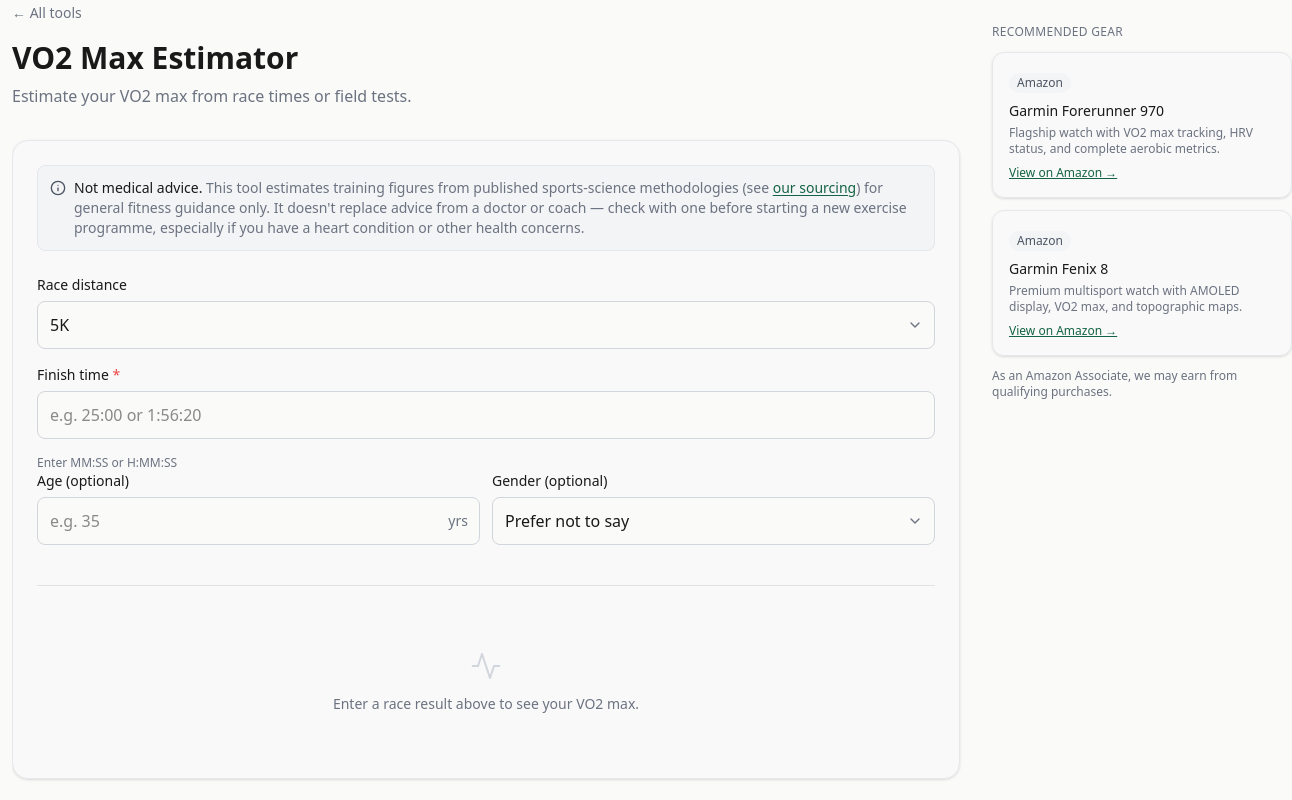
Test case: Vo2max page › shows personalised category when age and male gender entered (AC10)
The image size is (1292, 800).
In the field labelled "Finish time *": point(486, 415) [37, 391, 935, 439], type "25:00"
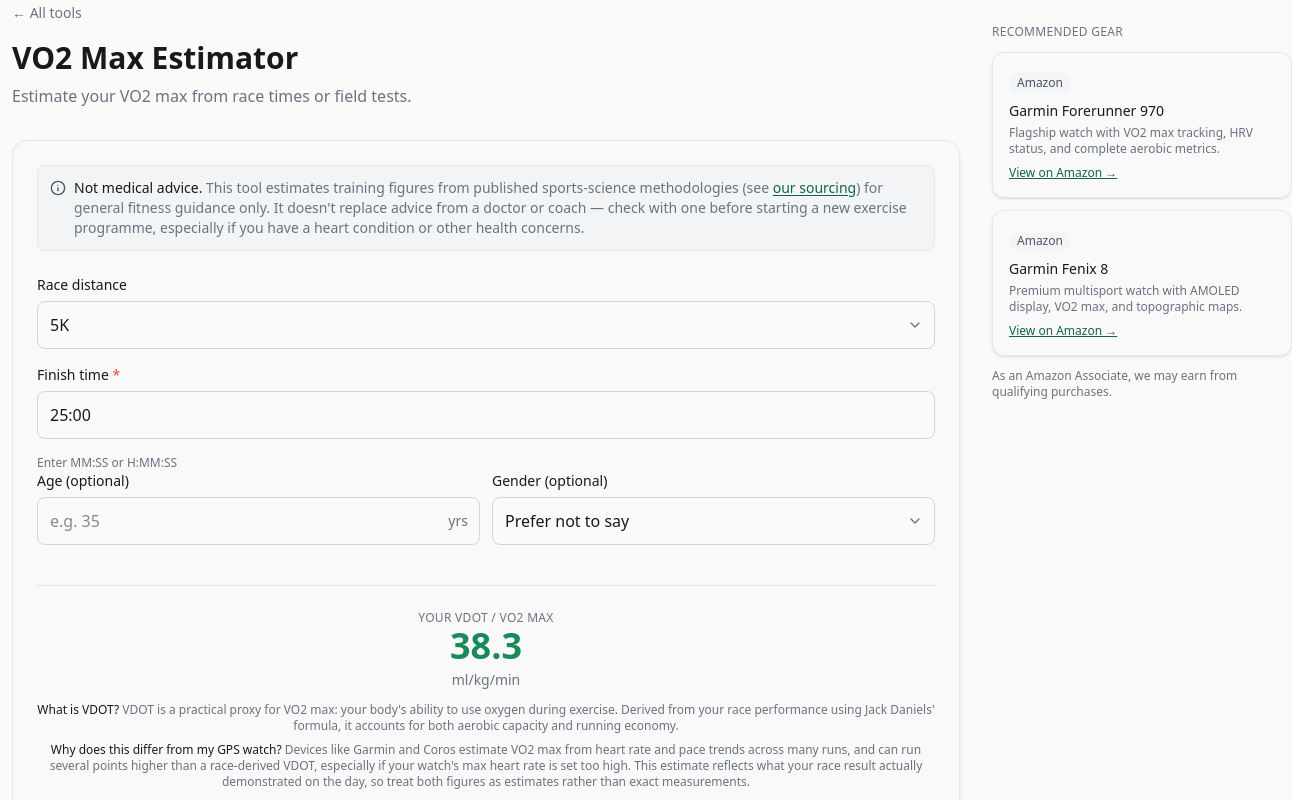
In the number field labelled "Age (optional)": point(258, 521) [37, 497, 480, 545], type "35"
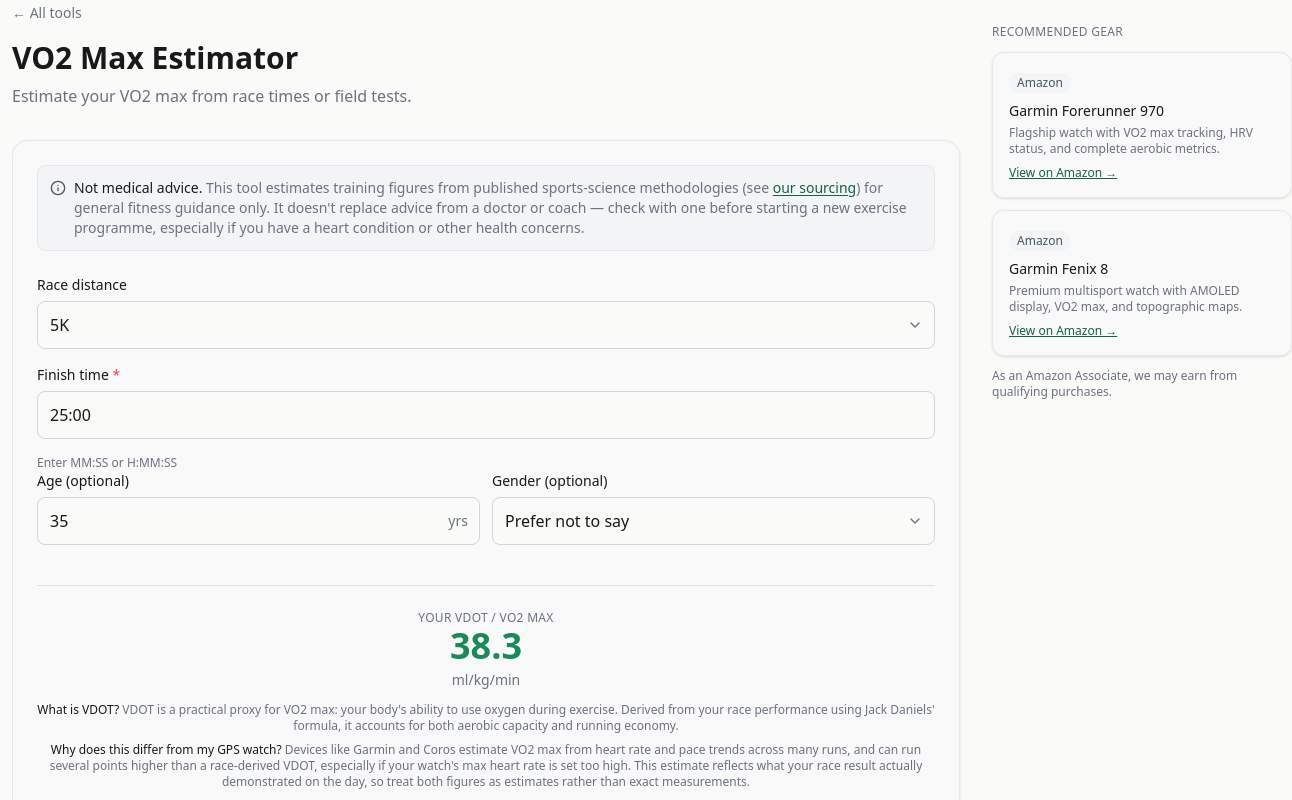
Select "Male" in the dropdown labelled "Gender (optional)": point(714, 521) [492, 497, 935, 545]
(page scrolled)
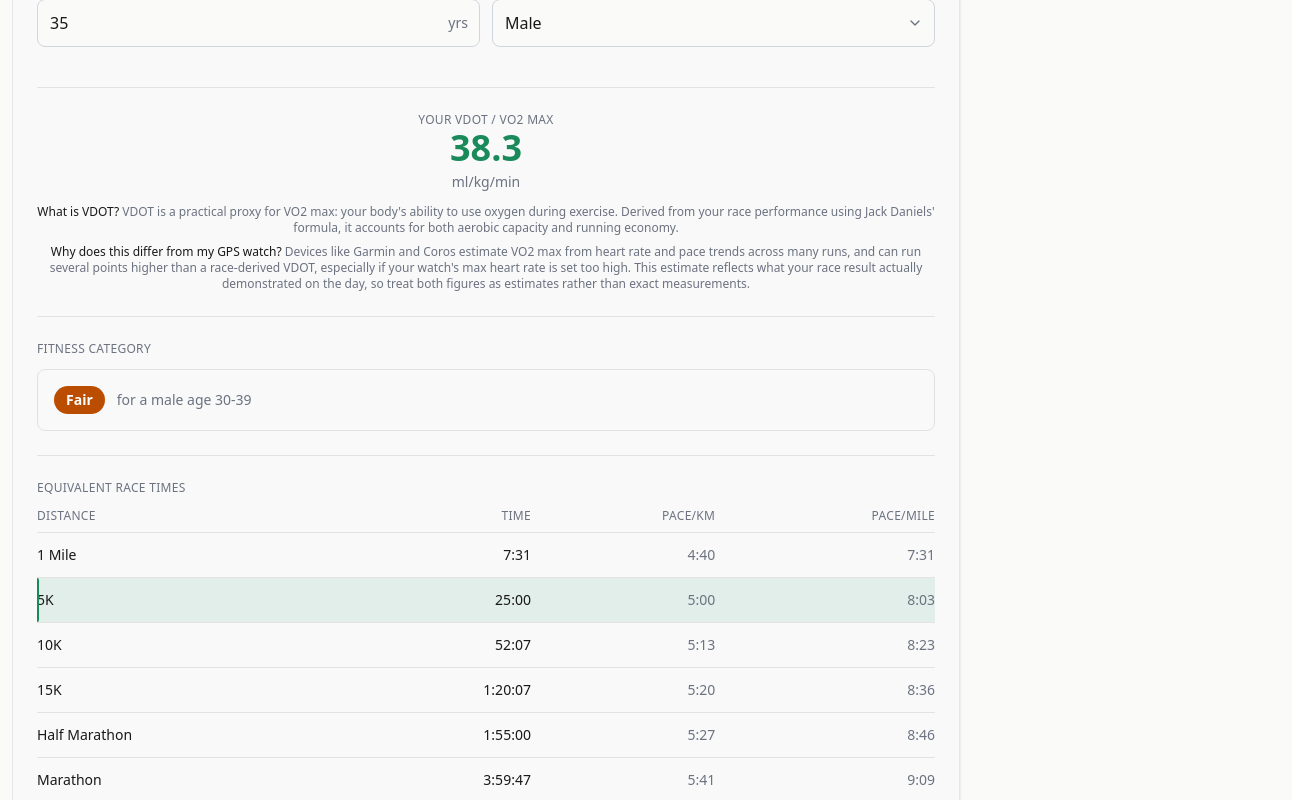
Result: the element with test id "fitness-category-personalised" is shown at [37, 369, 935, 431]
Result: the text "for a male age 30-39" is shown at [117, 390, 252, 410]
